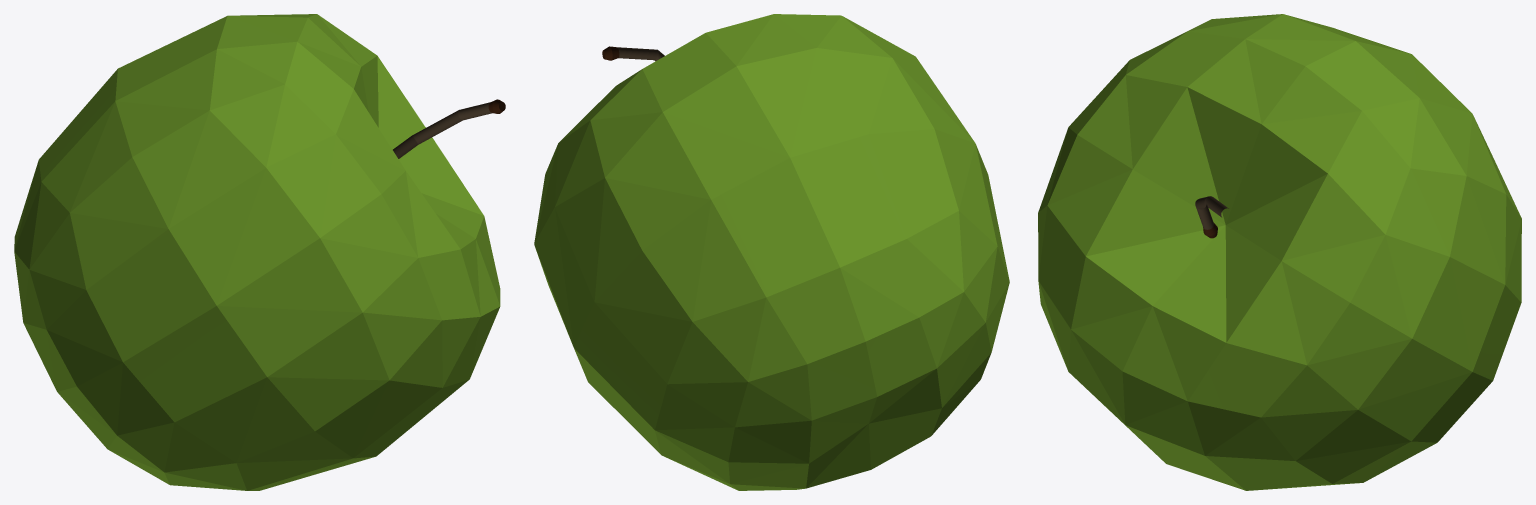
Rendered from apple.glb.
3 views of the same model, side by side, from view 1: azimuth 30°, elevation 25°; view 2: azimuth 150°, elevation 25°; view 3: azimuth 270°, elevation 25° (orthographic). The views are drawn at different scales.
Visible parts, largest first — view 1: Cube002; view 2: Cube002; view 3: Cube002.
Part boxes in pixels (<box>): Cube002: <box>14,14,505,490</box>; Cube002: <box>534,14,1009,490</box>; Cube002: <box>1038,14,1521,490</box>.
Size of the model in its own units: 3.36 by 3.28 by 3.22.
